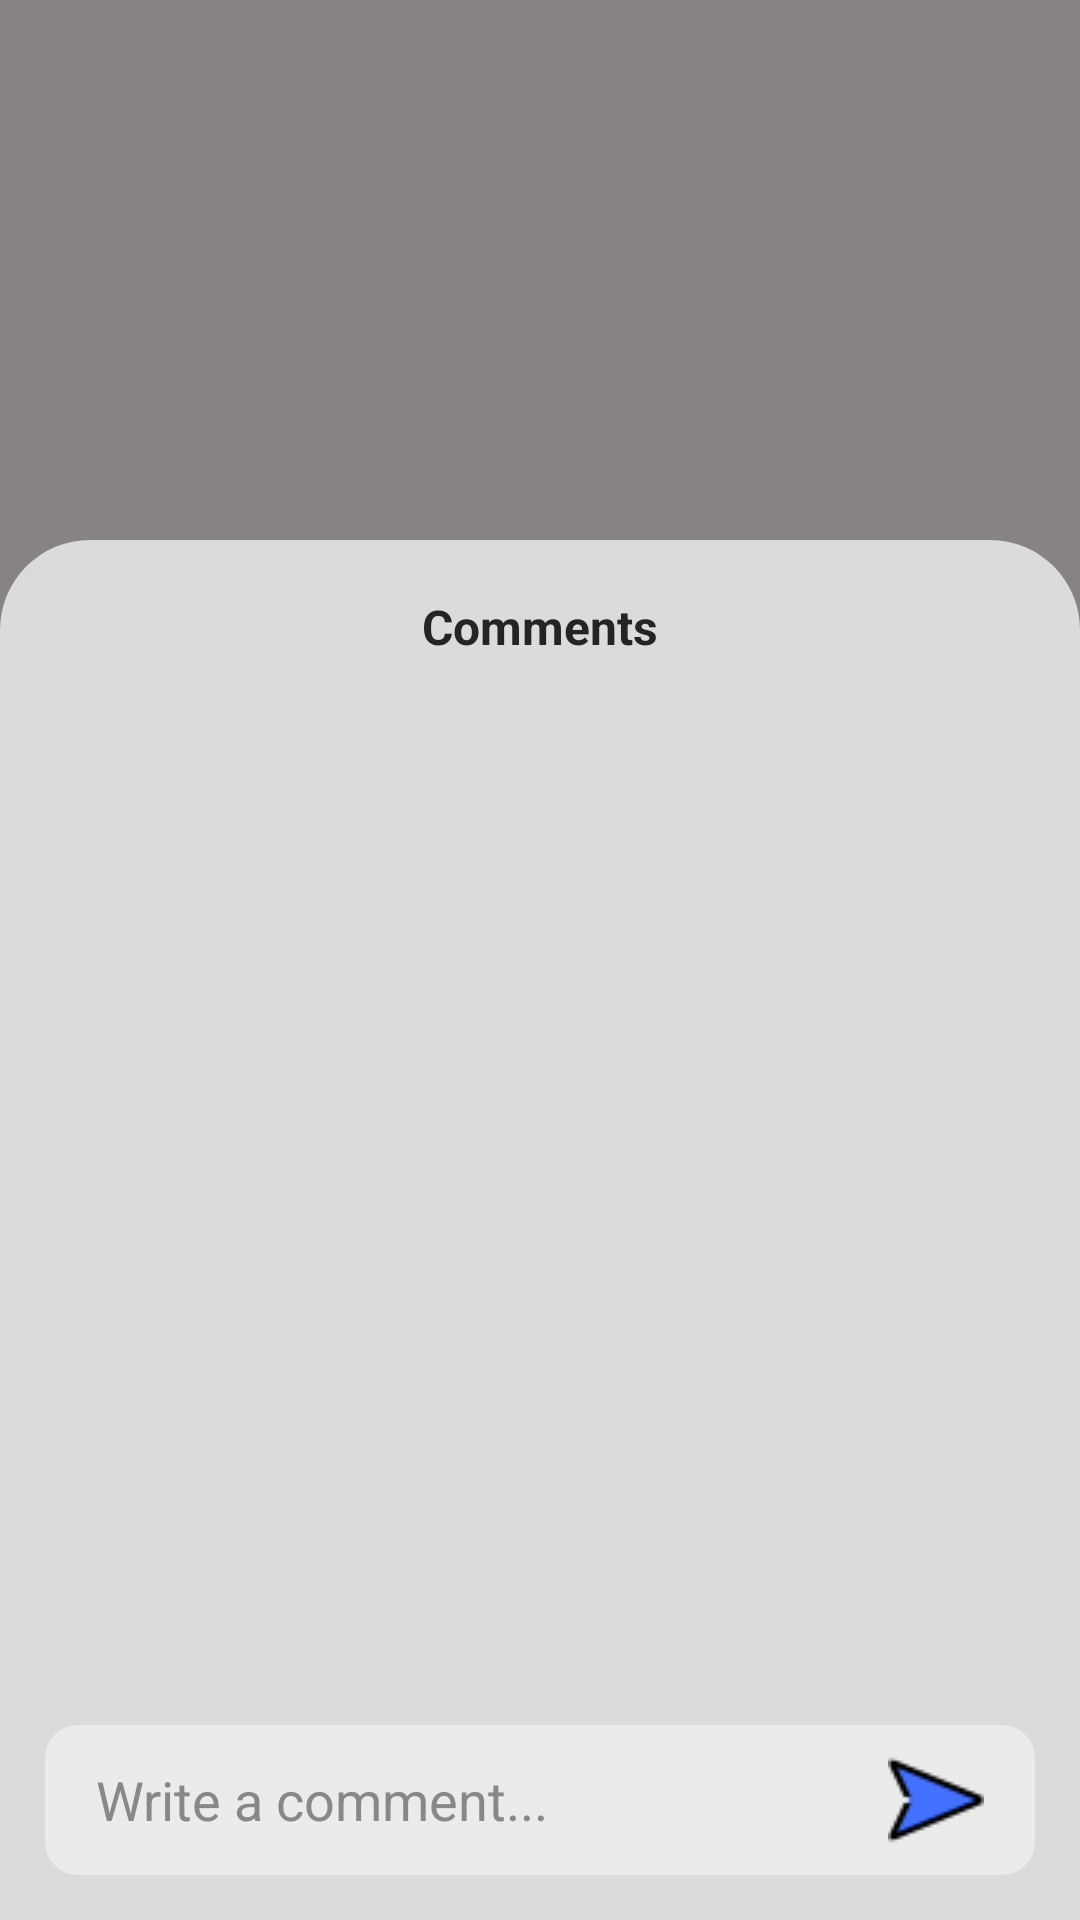

Screen size 1080px x 1920px. Icon name, then its box in pixels as (x1, y1, x2, y2):
send: (888, 1758, 984, 1842)
